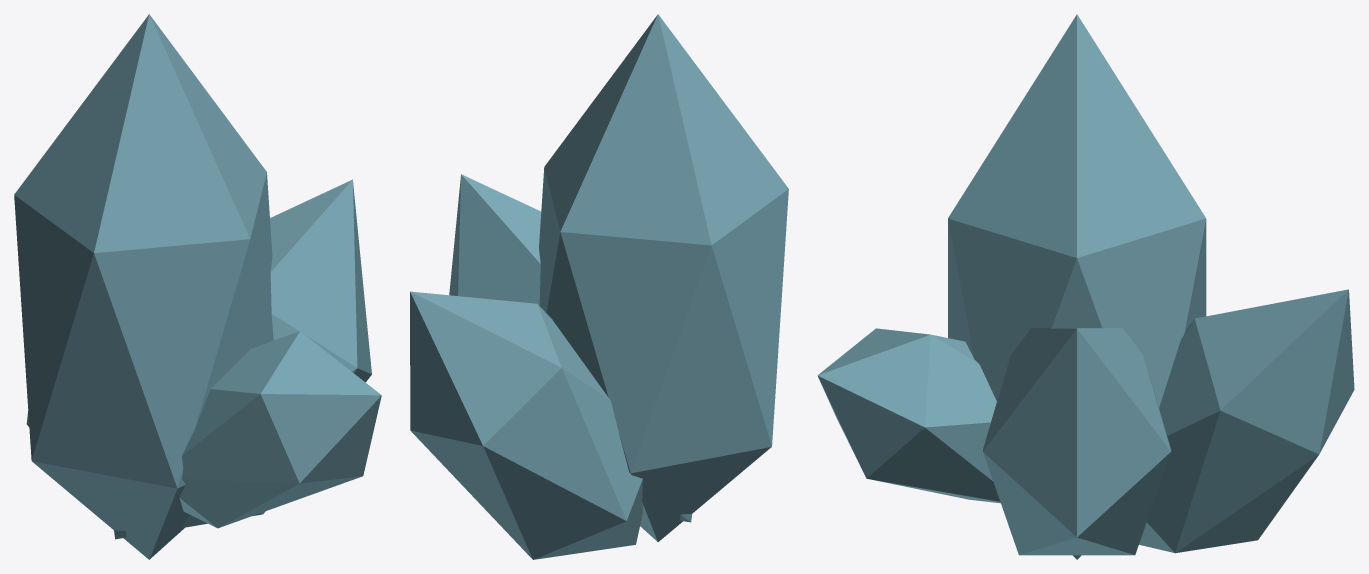
The model's file is Höhlenkristall.glb.
3 views of the same model, side by side, from view 1: azimuth 30°, elevation 25°; view 2: azimuth 150°, elevation 25°; view 3: azimuth 270°, elevation 25° (orthographic). The views are drawn at different scales.
Visible parts, largest first — view 1: Icosphere; view 2: Icosphere; view 3: Icosphere.
Boxes of the visible parts, bbox=[...] form: Icosphere: bbox=[14, 14, 381, 559]; Icosphere: bbox=[410, 14, 788, 559]; Icosphere: bbox=[817, 14, 1354, 559].
Size of the model in its own units: 2.59 by 3.97 by 3.54.
